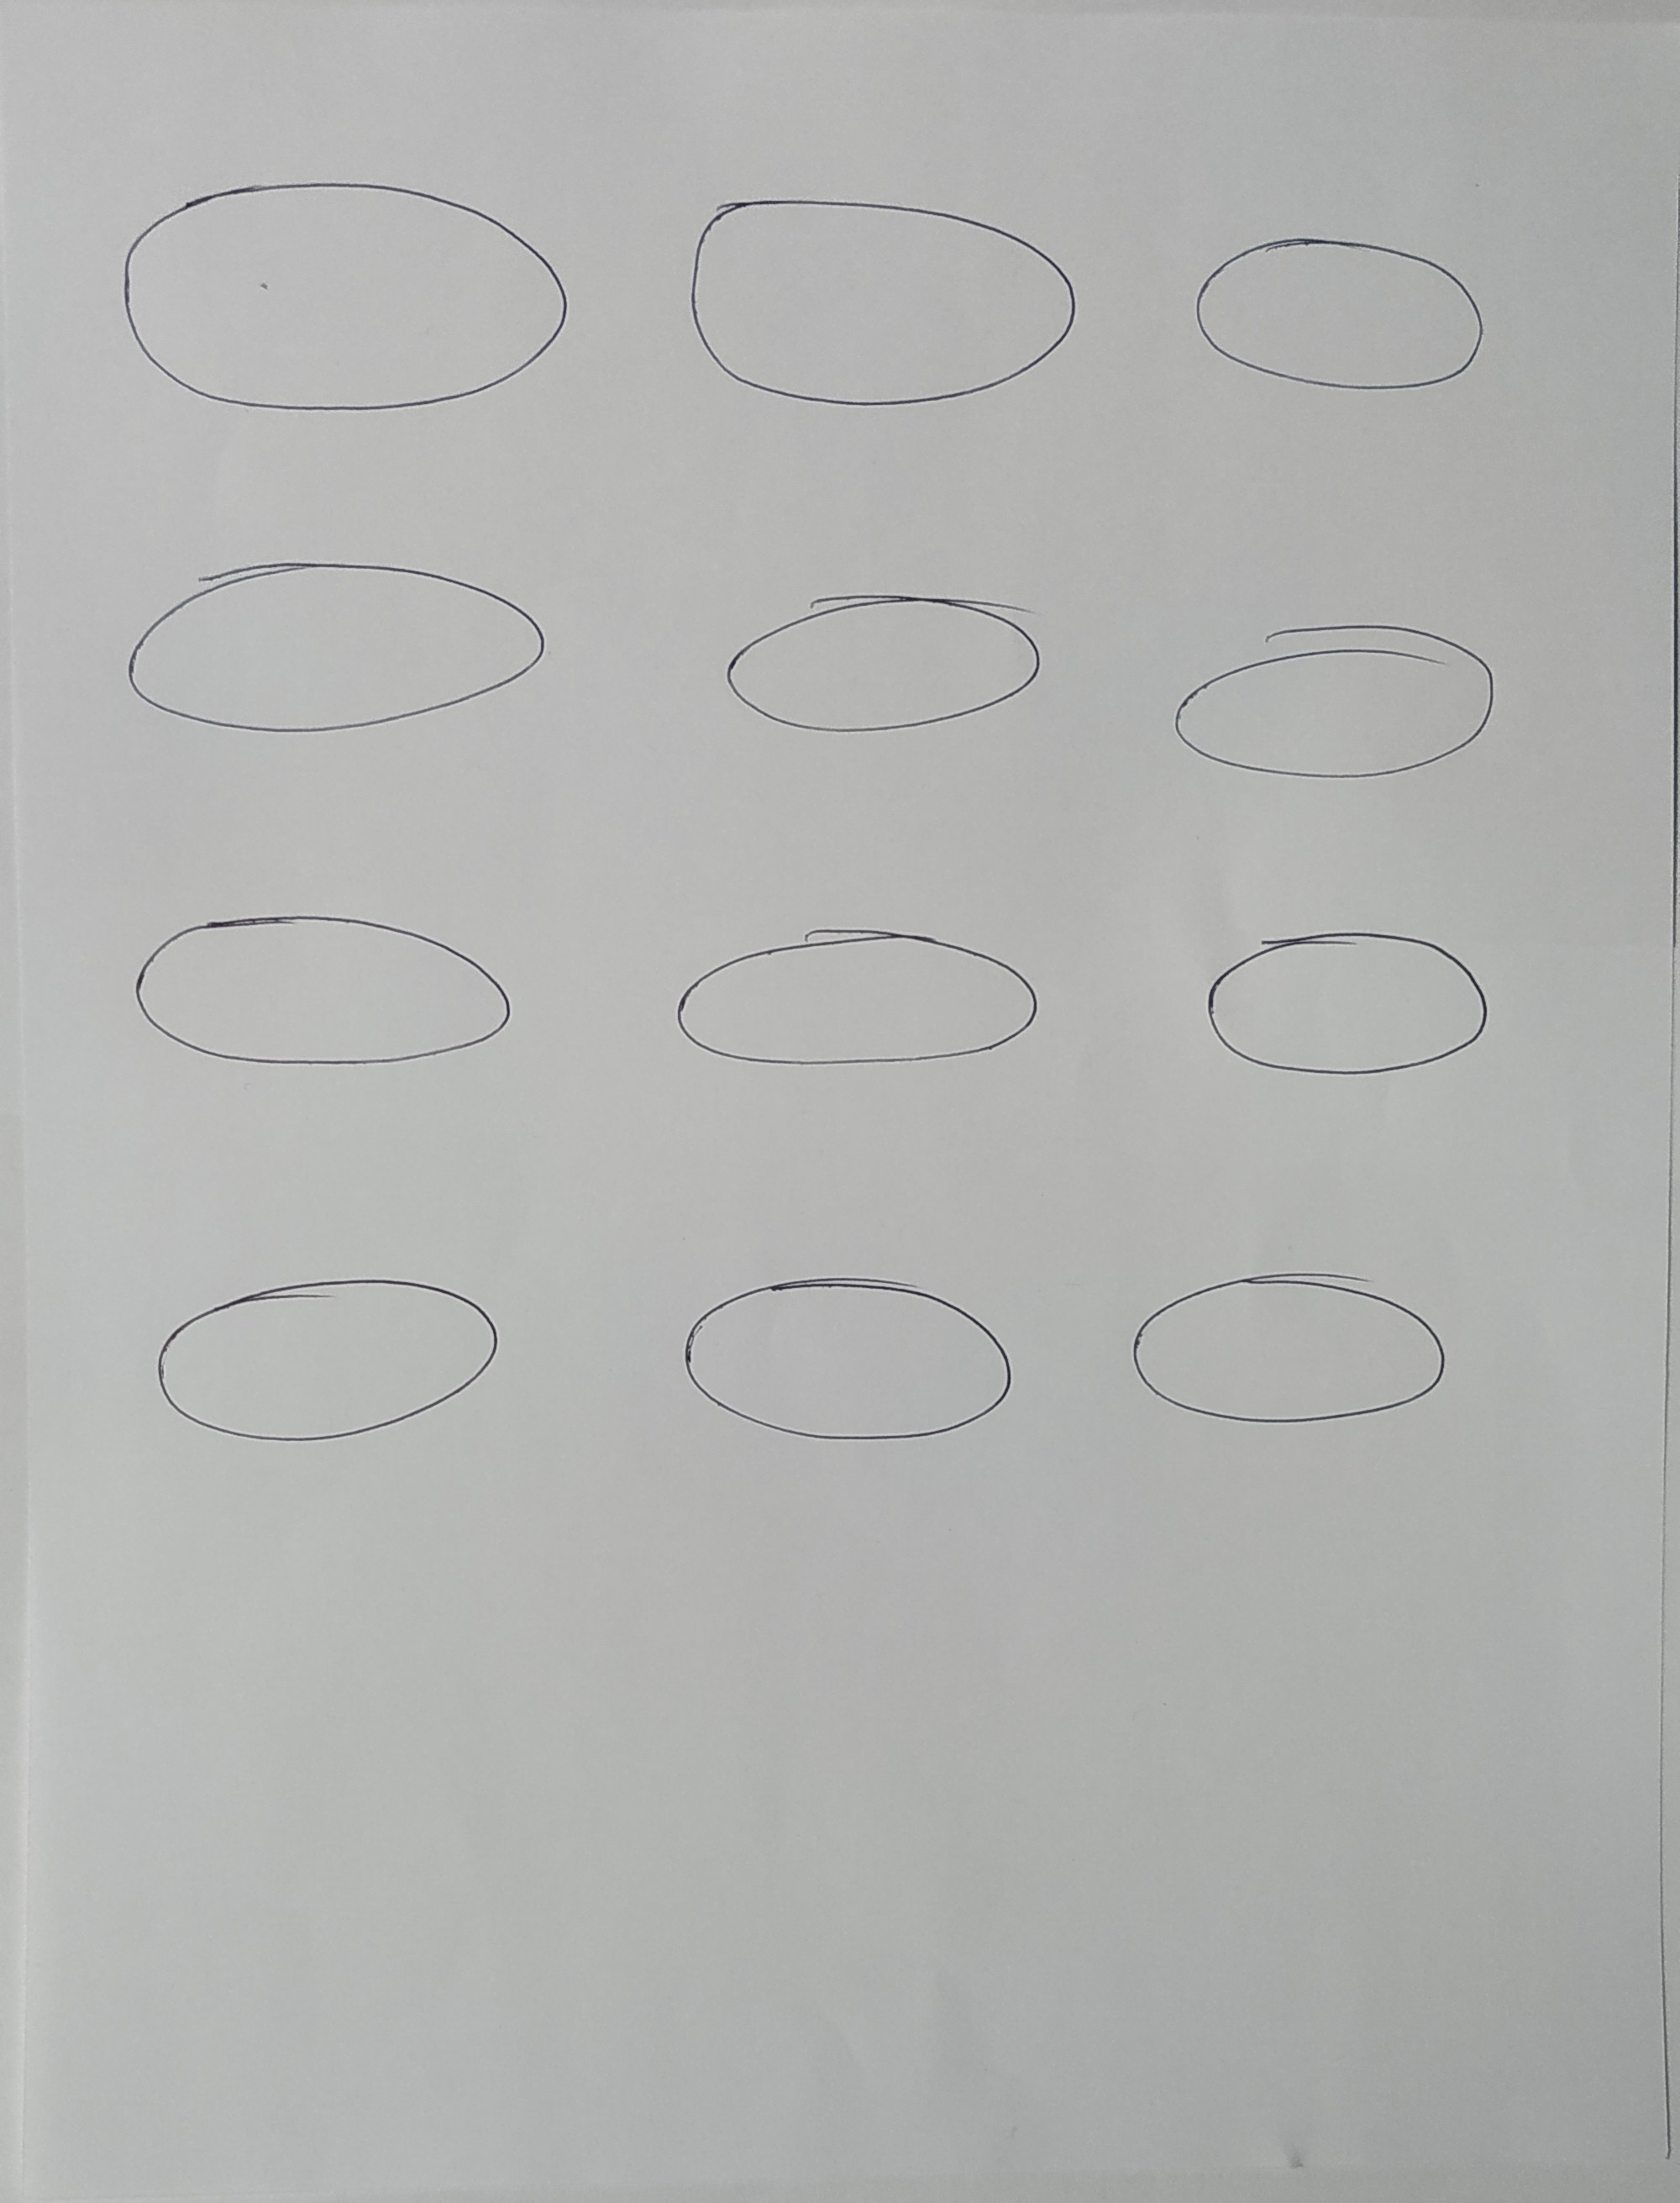start_end: (113, 164, 577, 431), (681, 189, 1085, 408), (116, 554, 552, 741), (125, 904, 519, 1077), (146, 1264, 512, 1449), (672, 1264, 1025, 1451), (1163, 616, 1507, 798), (671, 927, 1048, 1080), (1124, 1262, 1454, 1433), (1184, 222, 1493, 402), (1191, 916, 1496, 1086), (716, 588, 1050, 736)
